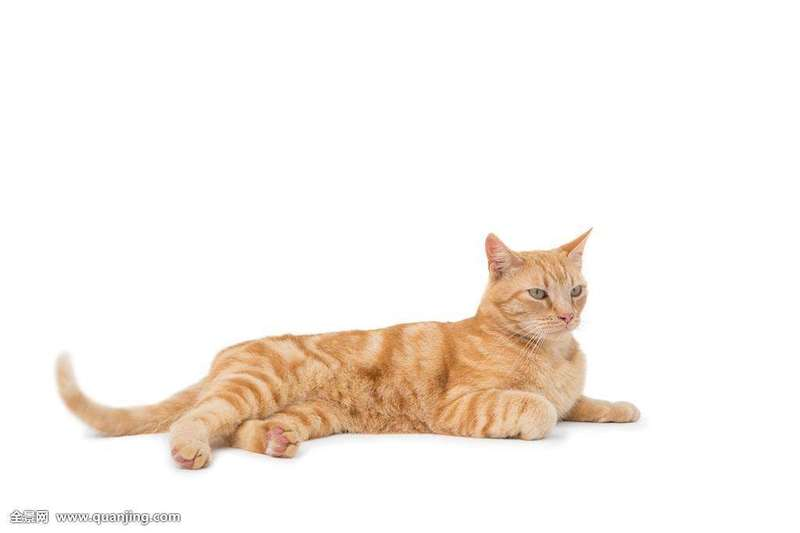cat: (454, 218, 634, 383)
